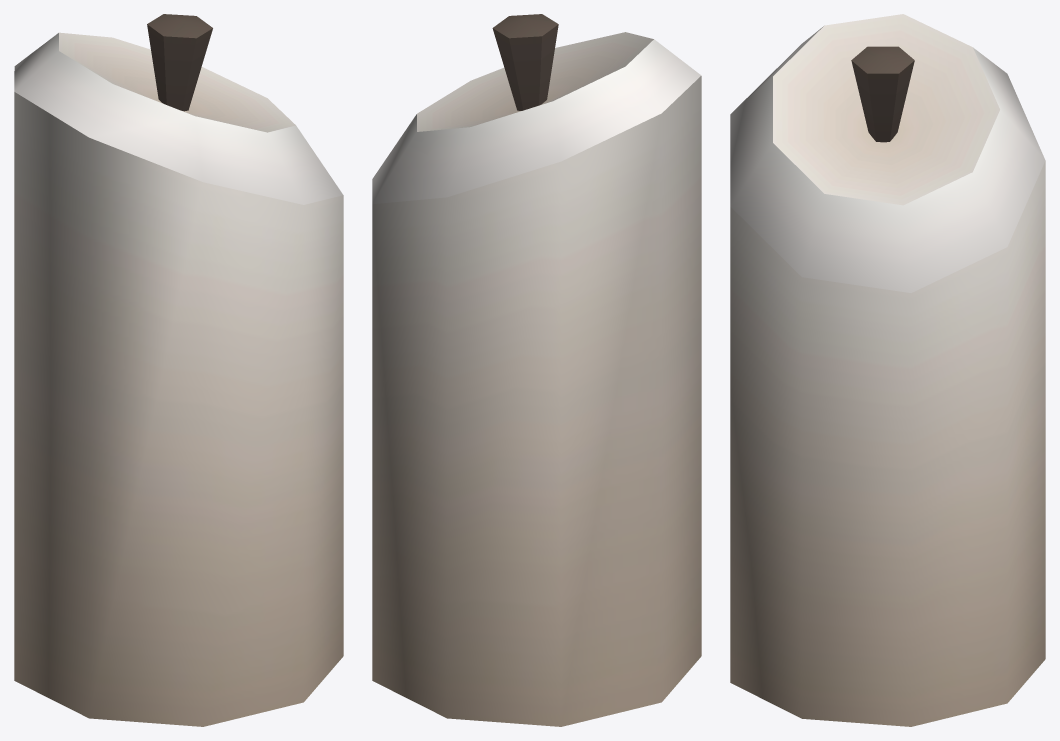
File: kaykit-dungeon-remastered-candle-melted-gltf.glb
3 renders of one model, left to right at view 1: azimuth 30°, elevation 25°; view 2: azimuth 150°, elevation 25°; view 3: azimuth 270°, elevation 25°, orthographic. The views are drawn at different scales.
Parts seen in each view (by area): view 1: candle_melted; view 2: candle_melted; view 3: candle_melted.
Part boxes in pixels (<box>): candle_melted: <box>14,14,343,726</box>; candle_melted: <box>372,14,701,726</box>; candle_melted: <box>730,14,1045,726</box>.
Bounding box in the file's own units: 0.3344 × 0.7015 × 0.3293.
Materials: 1 (1 with a texture image).
